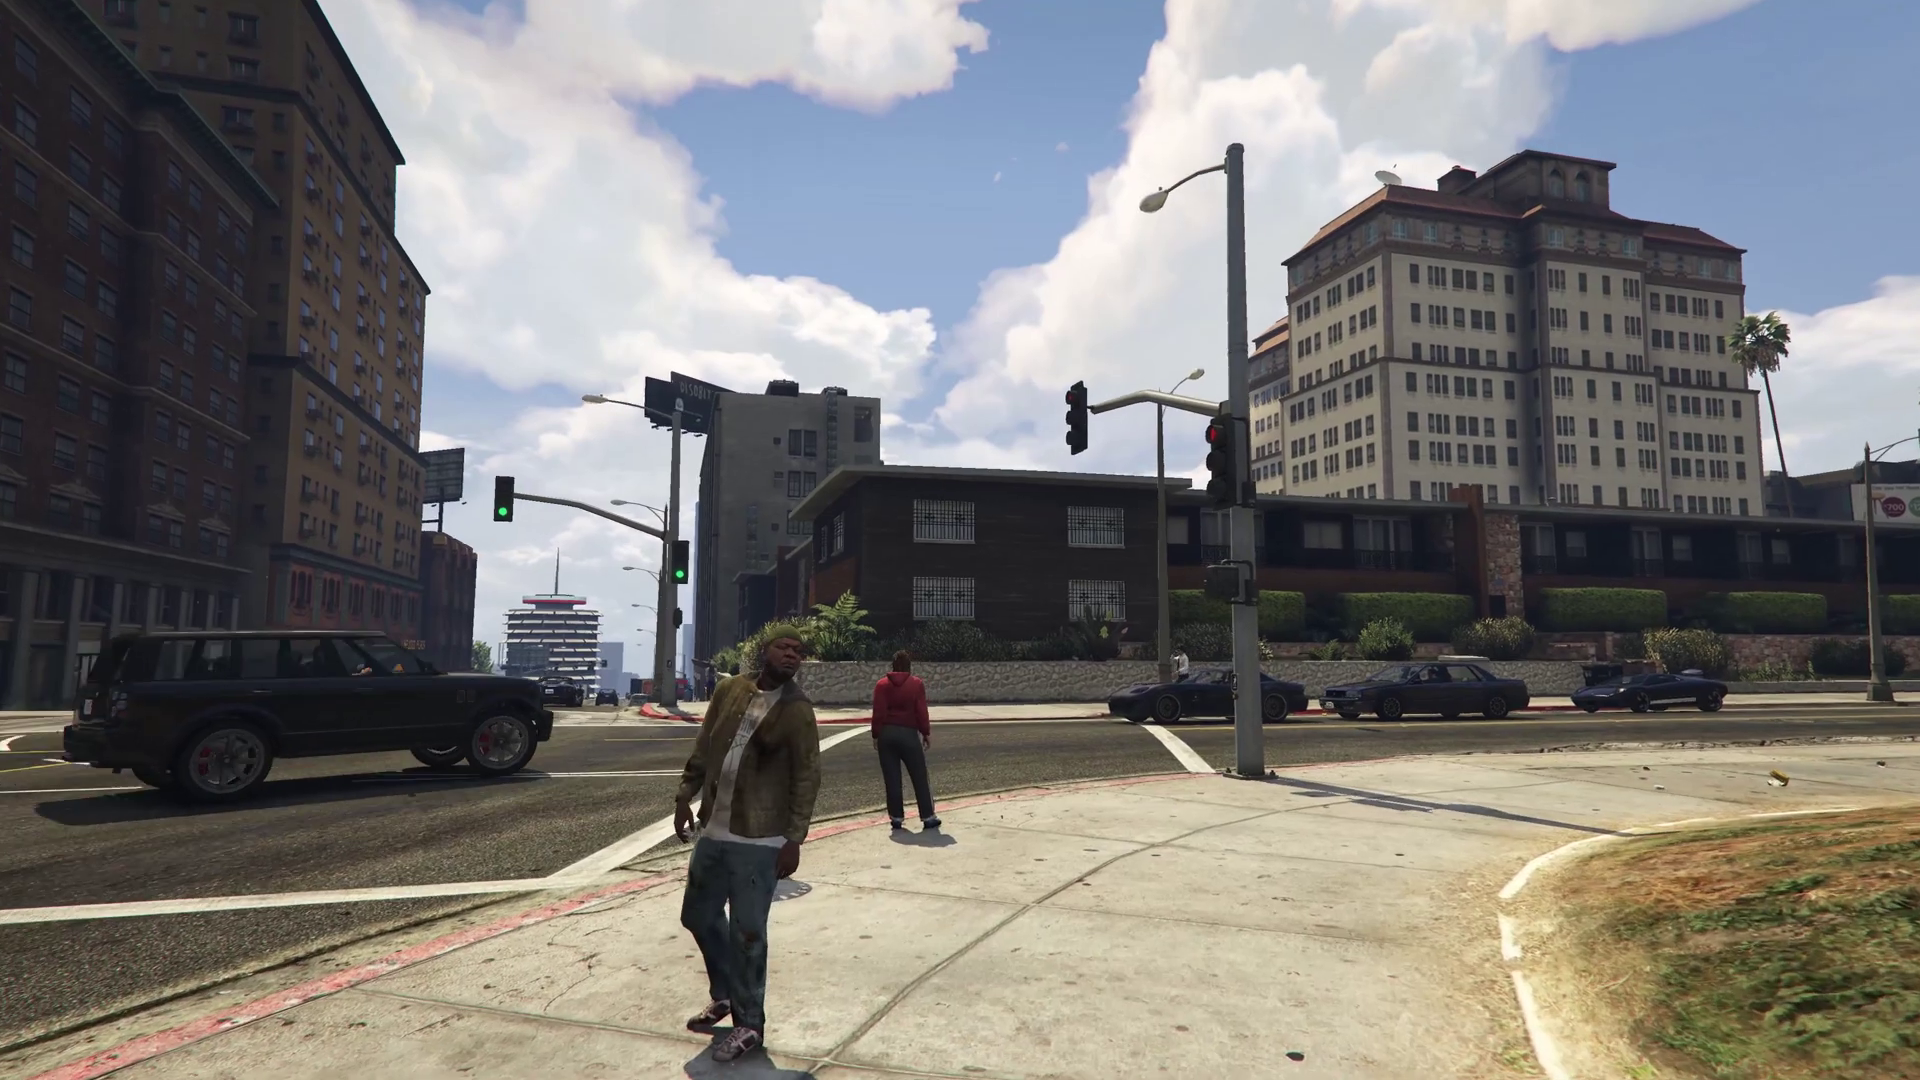car: (60, 629, 558, 797), (1321, 659, 1531, 722), (1108, 661, 1303, 727), (1575, 666, 1730, 716), (536, 676, 581, 708), (594, 687, 617, 710)
person: (673, 624, 821, 1059), (872, 649, 945, 828), (1168, 646, 1194, 687)
traffic light: (1205, 416, 1241, 503), (1065, 382, 1088, 455), (1206, 564, 1243, 605), (668, 541, 688, 583), (494, 476, 510, 523)
